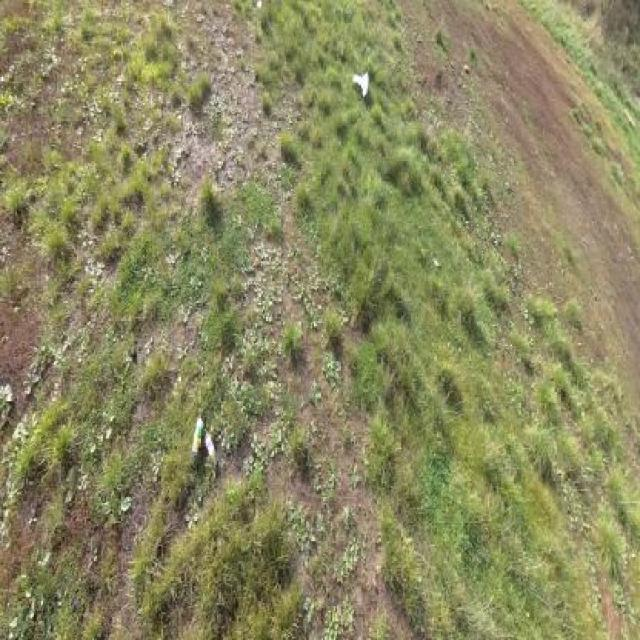Garbage: (191, 417, 204, 456), (204, 433, 217, 468), (352, 72, 369, 97), (464, 64, 469, 75), (257, 0, 262, 10)
